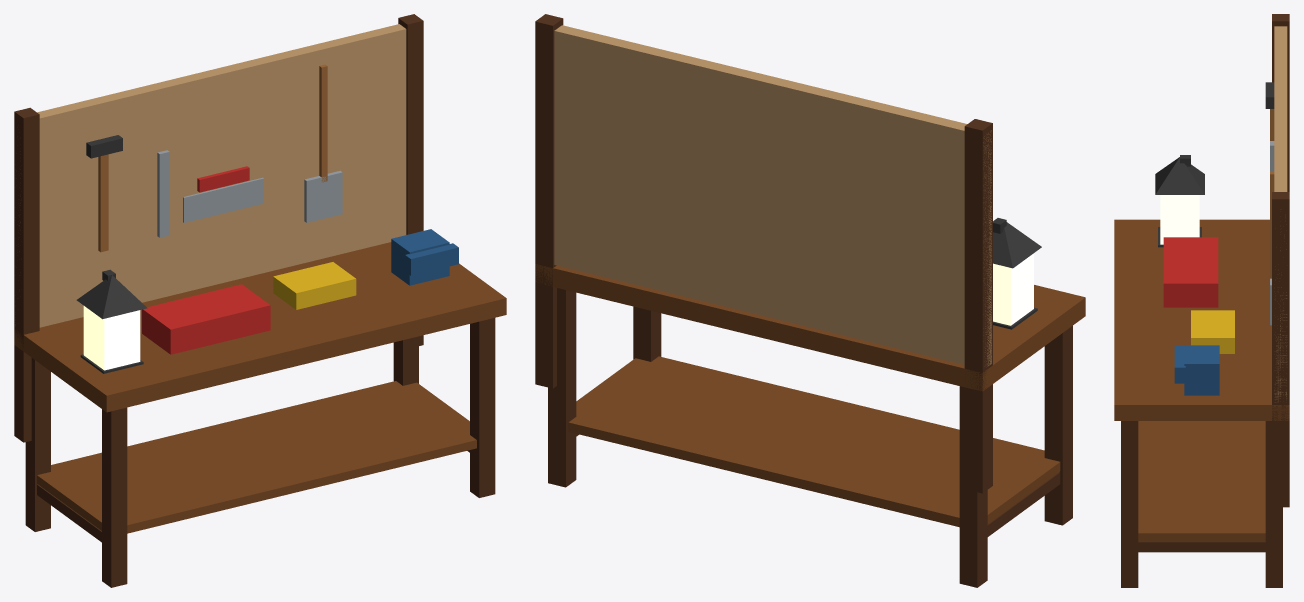
File: Camp_Workbench.fbx
3 views of the same model, side by side, from view 1: azimuth 30°, elevation 25°; view 2: azimuth 150°, elevation 25°; view 3: azimuth 270°, elevation 25° (orthographic). The views are drawn at different scales.
Parts seen in each view (by area): view 1: Camp_Workbench; view 2: Camp_Workbench; view 3: Camp_Workbench.
Boxes of the visible parts, x1,y1,x2,y2 form: Camp_Workbench: [14, 14, 506, 587]; Camp_Workbench: [535, 14, 1085, 587]; Camp_Workbench: [1114, 14, 1289, 587].
Bounding box in the file's own units: 2 × 1.98 × 0.8.
